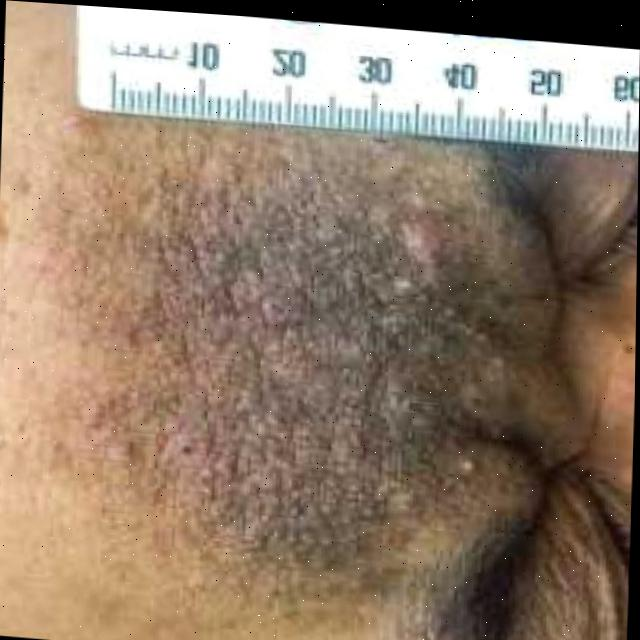Rosacea: (127, 121, 525, 625)
